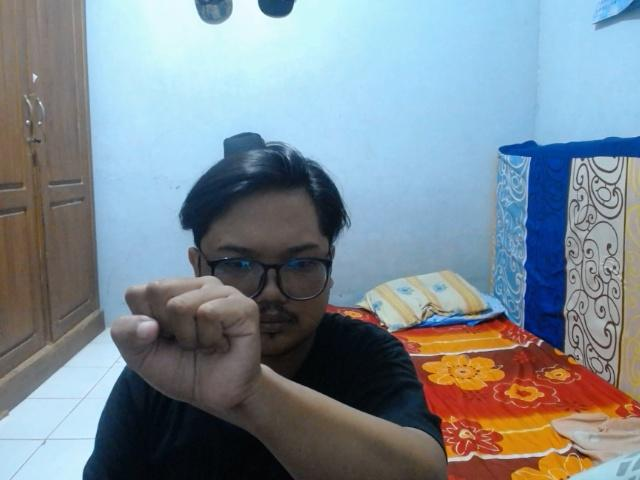Grab: (106, 270, 268, 422)
